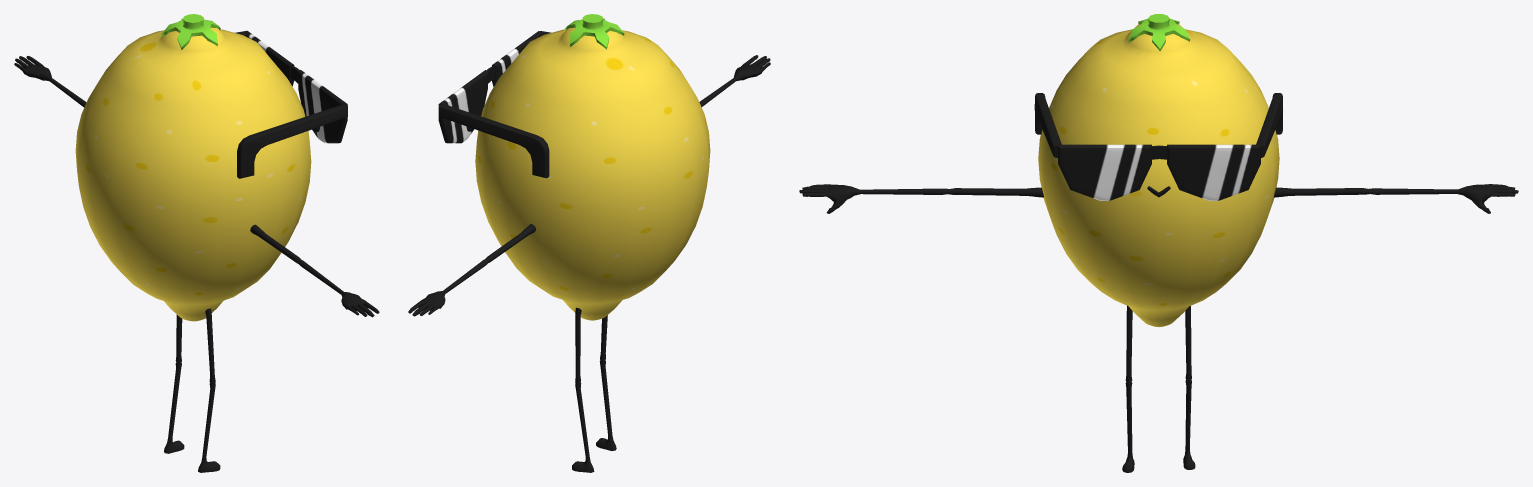
Rendered from scene_zaB7ojHl4x.glb.
3 renders of one model, left to right at view 1: azimuth 30°, elevation 25°; view 2: azimuth 150°, elevation 25°; view 3: azimuth 270°, elevation 25°, orthographic. The views are drawn at different scales.
Parts seen in each view (by area): view 1: _100Avatars_157_AwesomeLemon; view 2: _100Avatars_157_AwesomeLemon; view 3: _100Avatars_157_AwesomeLemon.
Boxes of the visible parts, x1,y1,x2,y2 form: _100Avatars_157_AwesomeLemon: [14, 14, 379, 472]; _100Avatars_157_AwesomeLemon: [408, 14, 770, 472]; _100Avatars_157_AwesomeLemon: [799, 14, 1518, 472].
Bounding box in the file's own units: 1.52 × 3.06 × 4.45.
1 material, 1 textured.
